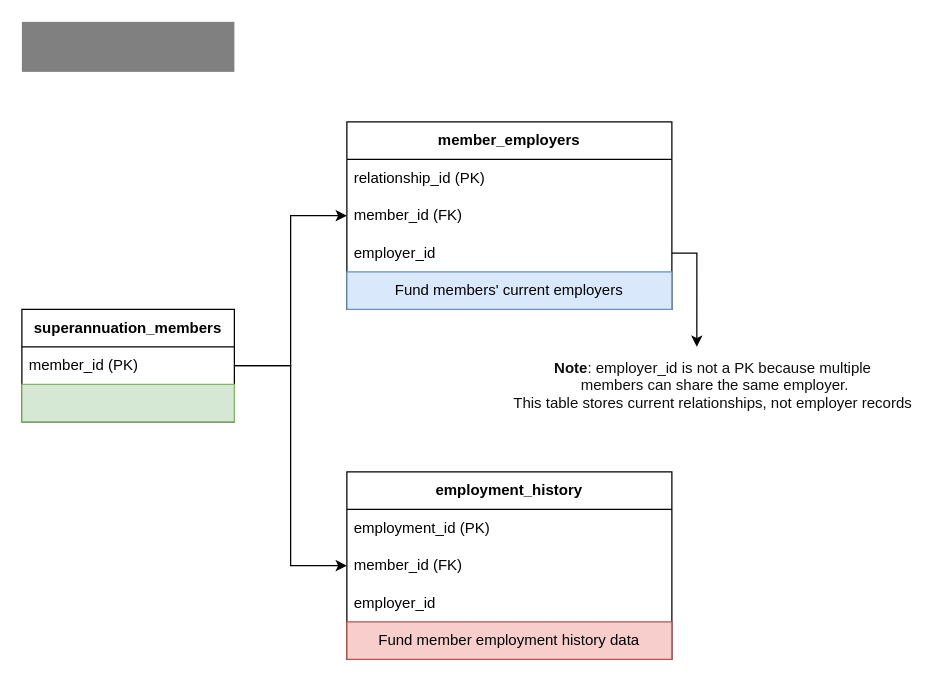
Some shapes in this 950 by 681 pixel diagram are drawn without their labels. The shapes that lost their labels are listed below. From the top down, each one's centre as x and y in pixels, then its label:
At (x=127, y=46): "Data Integration".
At (x=127, y=402): "Fund member data".
